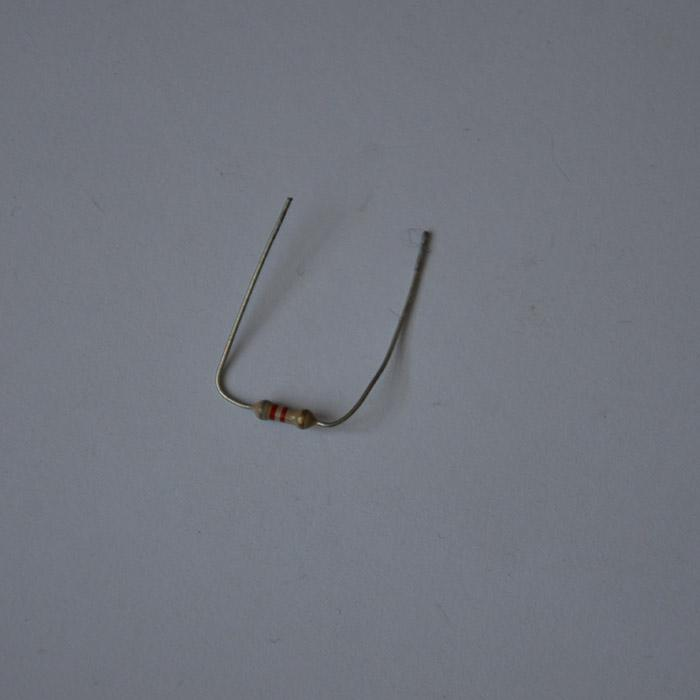resistor: (252, 398, 314, 428)
